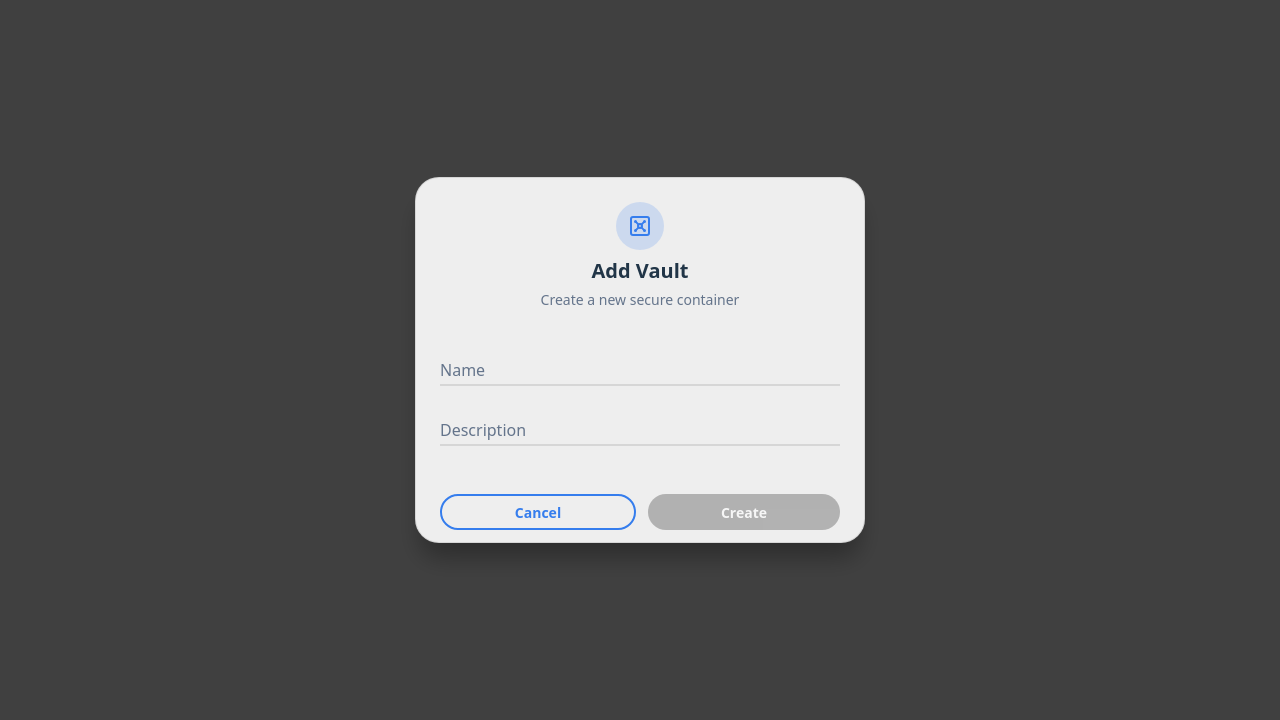
Scenario: VaultModalDialog Component › should show error message from API failure
Type "Conflict" into the field labelled "Name" at (640, 368), box [440,350,840,386]
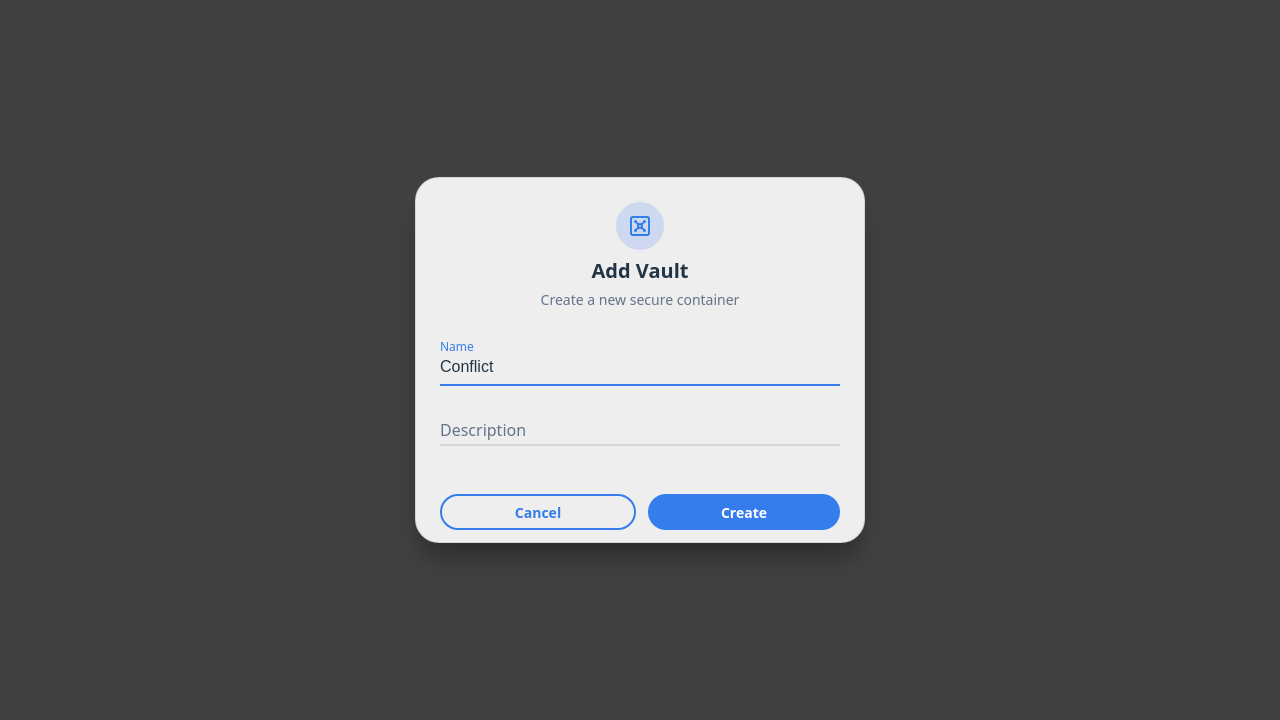
Click the button "Create" at (744, 512), box [648,494,840,530]
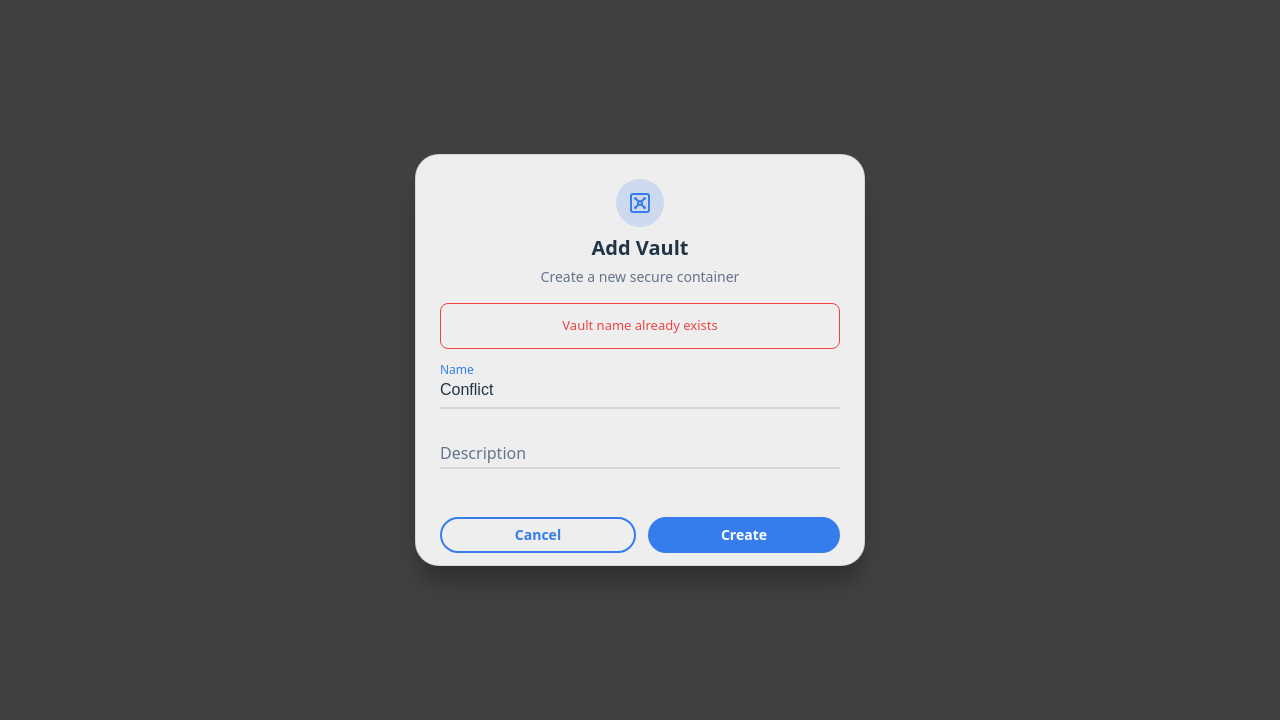
Expected: the text "Vault name already exists" is shown, [440,303,840,349]
